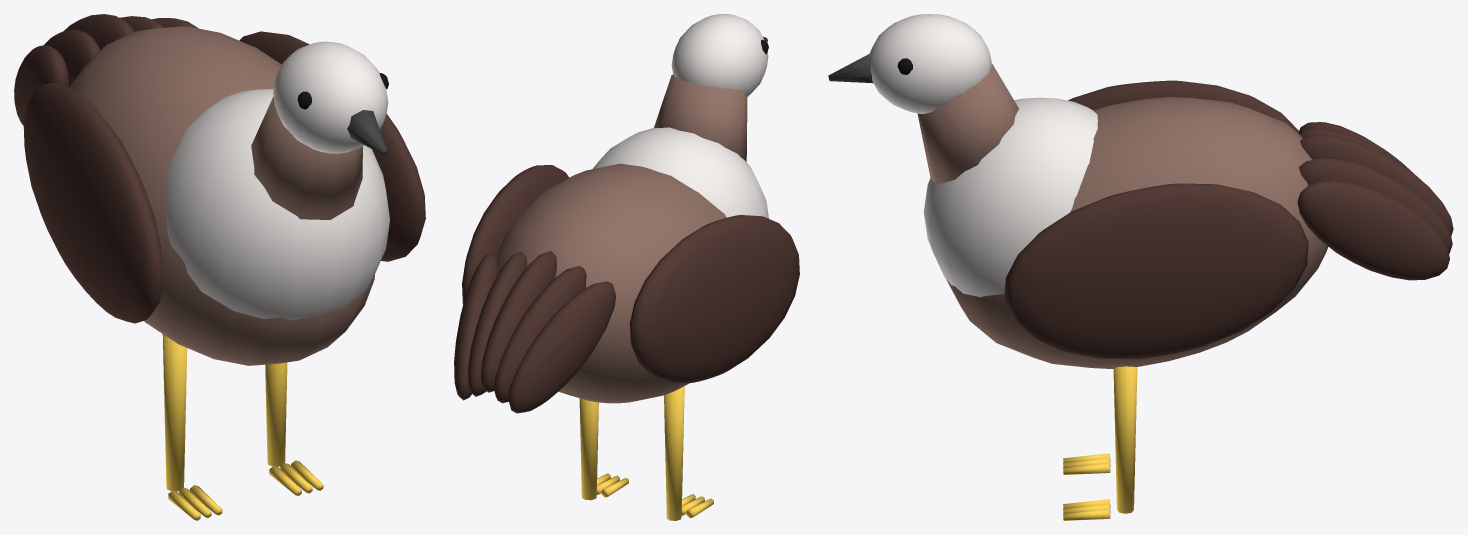
File: falcon.glb
The picture shows the model from 3 angles, left to right: view 1: azimuth 30°, elevation 25°; view 2: azimuth 150°, elevation 25°; view 3: azimuth 270°, elevation 25°; orthographic projection. The views are drawn at different scales.
Parts seen in each view (by area): view 1: falcon; view 2: falcon; view 3: falcon.
Boxes of the visible parts, box(x1,y1,x2,y2) form: falcon: box(14, 14, 425, 520); falcon: box(454, 14, 799, 520); falcon: box(828, 14, 1453, 520).
Size of the model in its own units: 0.4849 by 0.81 by 0.9671.
